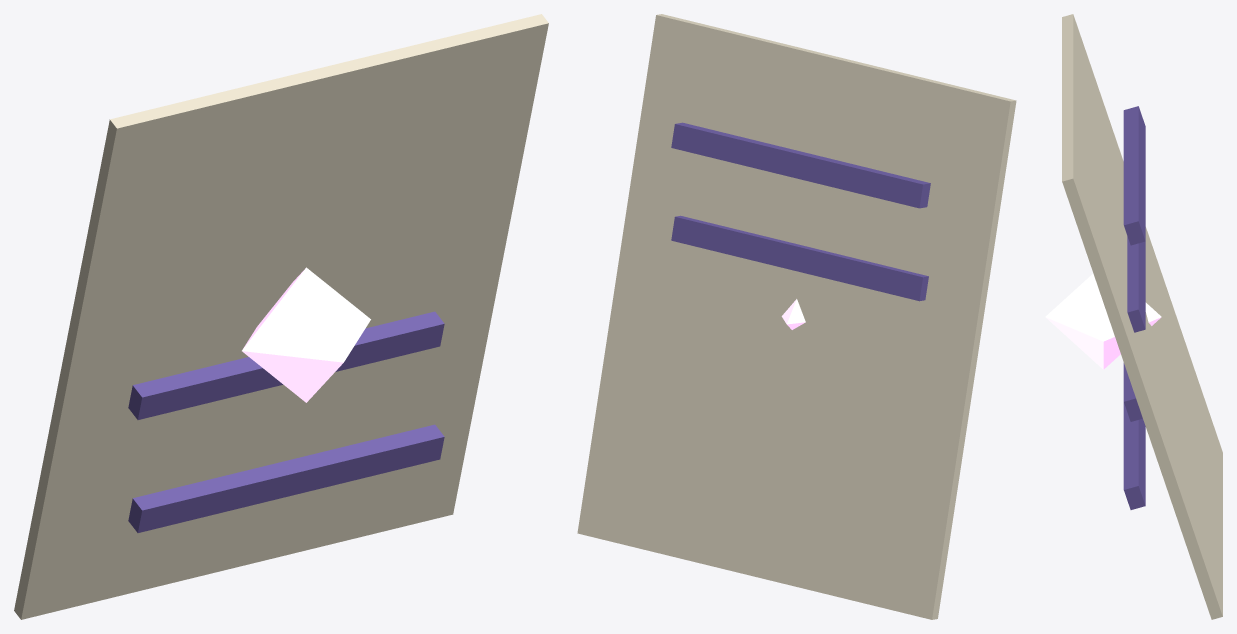
Rendered from m05_grimoire_page.glb.
3 views of the same model, side by side, from view 1: azimuth 30°, elevation 25°; view 2: azimuth 150°, elevation 25°; view 3: azimuth 270°, elevation 25° (orthographic). The views are drawn at different scales.
Parts seen in each view (by area): view 1: page_page, page_lines, page_pageRune; view 2: page_page, page_lines; view 3: page_page, page_lines, page_pageRune.
Boxes of the visible parts, <box> form: page_page: <box>14,14,548,619</box>; page_lines: <box>128,311,444,532</box>; page_pageRune: <box>242,267,370,402</box>; page_page: <box>577,14,1016,619</box>; page_lines: <box>671,122,930,301</box>; page_page: <box>1062,14,1222,619</box>; page_lines: <box>1123,106,1145,509</box>; page_pageRune: <box>1045,273,1161,369</box>.
Bounding box in the file's own units: 0.2 × 0.2502 × 0.0913.
